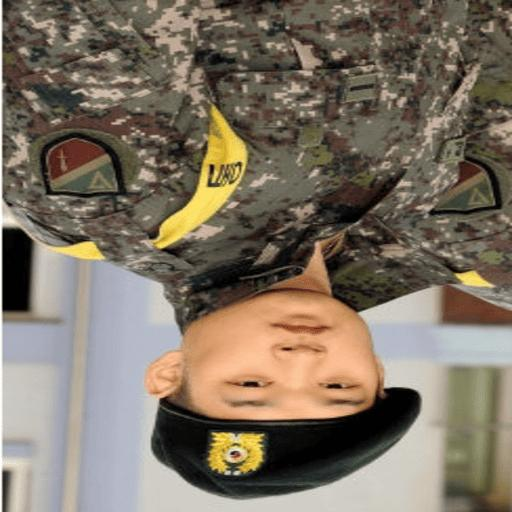korea army: (3, 6, 504, 309)
